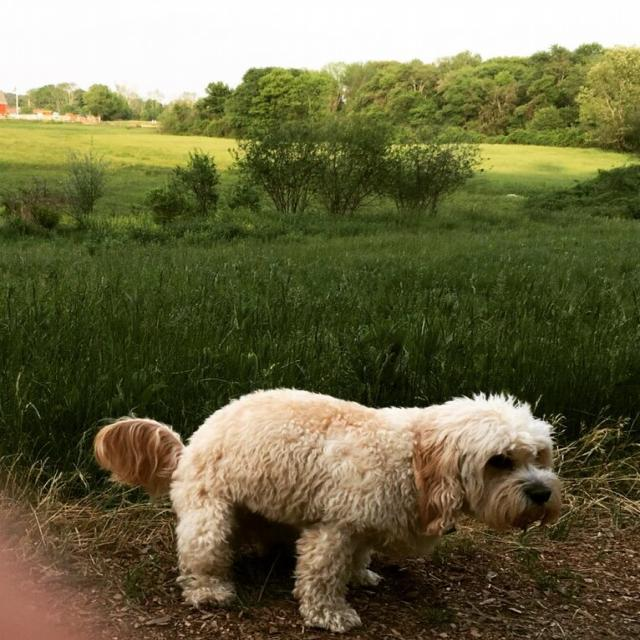squatting: (81, 381, 583, 631)
